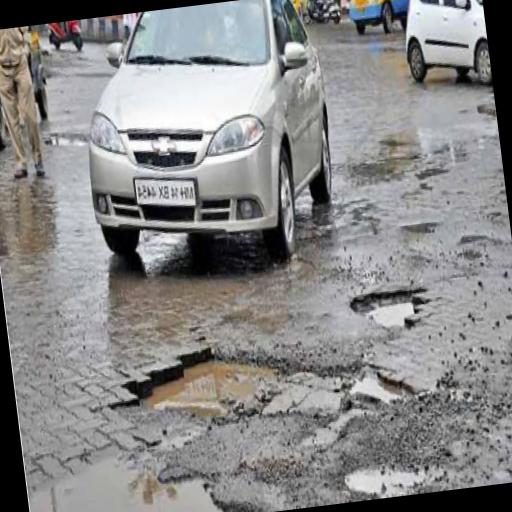pothole: (106, 316, 419, 452), (25, 434, 282, 512), (348, 278, 435, 339), (343, 458, 437, 499)
